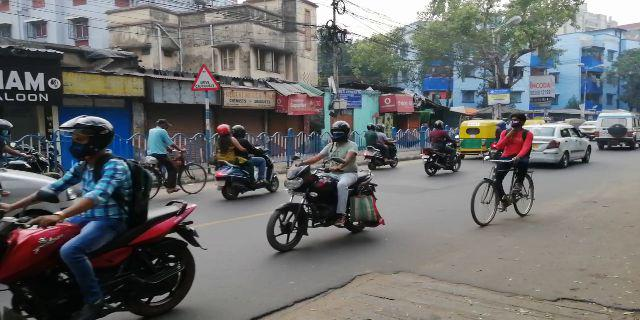Car: (598, 110, 637, 152)
Cycle: (469, 113, 534, 225), (125, 117, 206, 194)
Motorbike: (1, 118, 204, 317), (263, 120, 393, 259), (216, 131, 279, 197), (417, 120, 465, 174)
